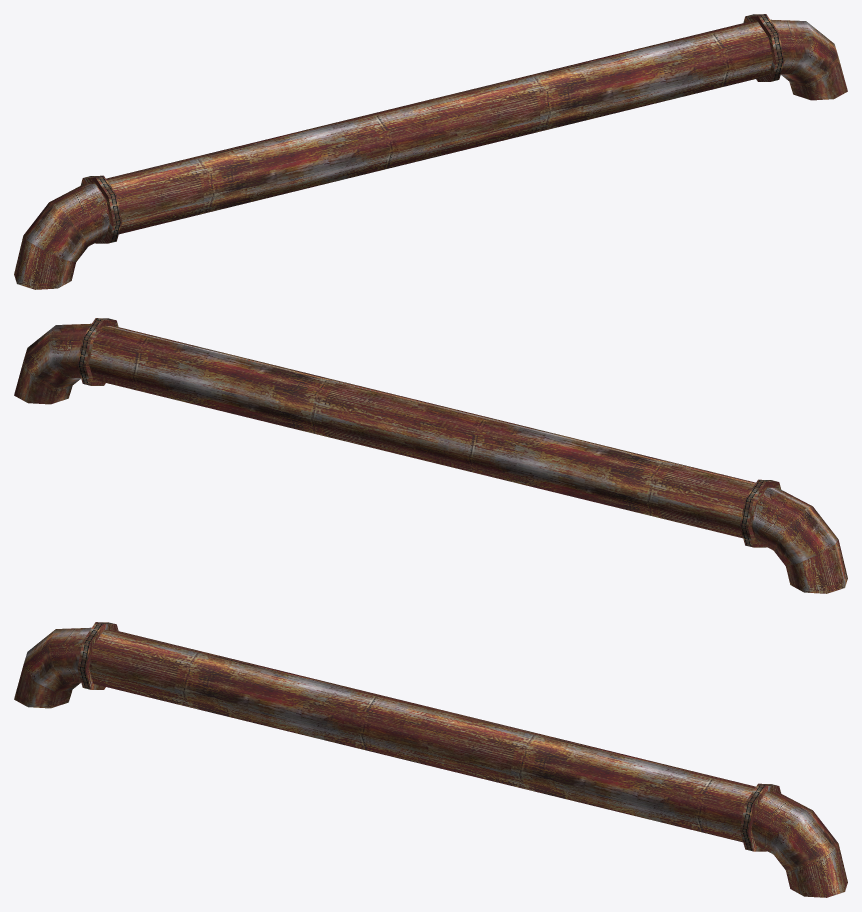
File: curved_ends_rusty_4m.fbx
3 renders of one model, top to bottom at view 1: azimuth 30°, elevation 25°; view 2: azimuth 150°, elevation 25°; view 3: azimuth 330°, elevation 25°, orthographic.
Parts seen in each view (by area): view 1: mesh_0; view 2: mesh_0; view 3: mesh_0.
Part boxes in pixels (left/top/right/bottom): mesh_0: left=14, top=14, right=847, bottom=289; mesh_0: left=14, top=318, right=847, bottom=593; mesh_0: left=14, top=622, right=847, bottom=897.
Bounding box in the file's own units: 400 × 40.17 × 30.47.
Materials: 1 (1 with a texture image).
